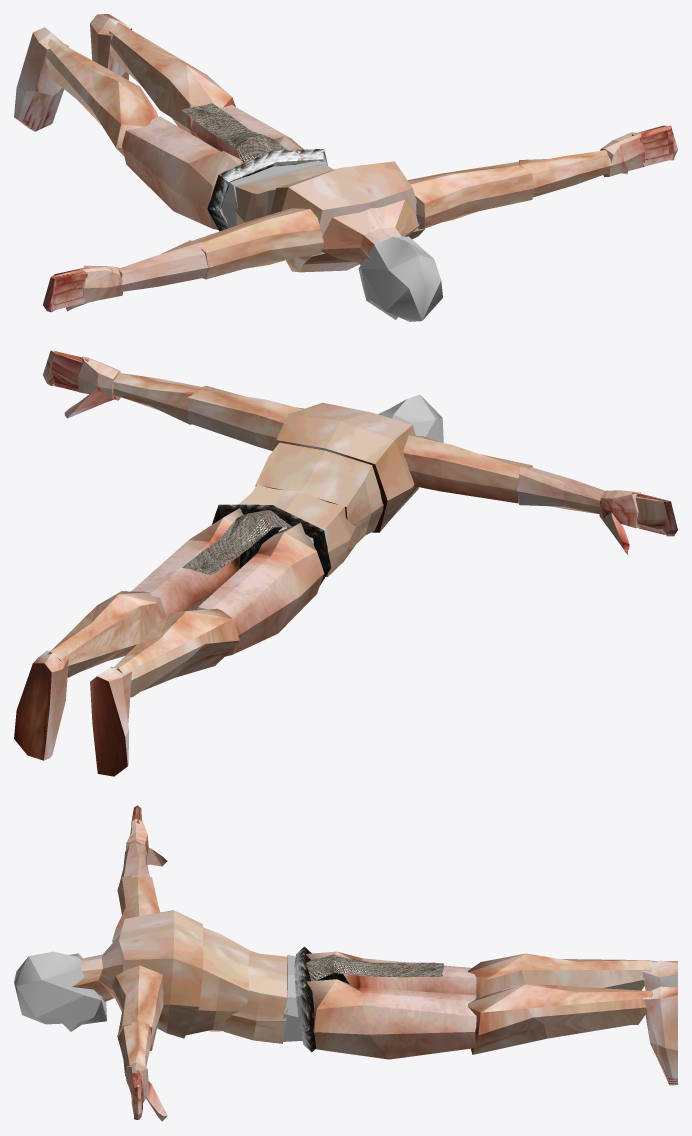
File: LowPolyPass.fbx
3 views of the same model, one above another, from view 1: azimuth 30°, elevation 25°; view 2: azimuth 150°, elevation 25°; view 3: azimuth 270°, elevation 25° (orthographic). The views are drawn at different scales.
Parts seen in each view (by area): view 1: RUpLeg, Spine2, LLeg, RArm, RLeg, LArm, Head, Neck, RFoot, RArm.001, LForeArm, Plane (+9 smaller); view 2: RUpLeg, Spine2, Spine1, RLeg, RArm, LLeg, LUpLeg, LArm, LFoot, RFoot, Spine, RArm.001 (+8 smaller); view 3: LUpLeg, LLeg, Spine2, RLeg, Head, Spine1, Spine, LArm, RUpLeg, LFoot, Plane, Neck (+7 smaller).
Part boxes in pixels (<box>): RUpLeg: <box>122,116,241,229</box>; Spine2: <box>270,161,424,272</box>; LLeg: <box>109,22,235,134</box>; RArm: <box>193,208,323,279</box>; RLeg: <box>46,39,158,155</box>; LArm: <box>407,161,534,229</box>; Head: <box>358,236,442,321</box>; Neck: <box>321,200,419,264</box>; RFoot: <box>14,27,68,131</box>; RArm.001: <box>119,240,212,291</box>; LForeArm: <box>519,150,613,197</box>; Plane: <box>181,103,287,163</box>; RUpLeg: <box>197,522,324,656</box>; Spine2: <box>273,402,418,532</box>; Spine1: <box>255,442,383,550</box>; RLeg: <box>113,608,239,697</box>; RArm: <box>403,435,532,503</box>; LLeg: <box>48,591,163,677</box>; LUpLeg: <box>131,508,243,617</box>; LArm: <box>188,385,303,450</box>; LFoot: <box>14,651,68,760</box>; RFoot: <box>90,667,131,776</box>; Spine: <box>238,484,356,576</box>; RArm.001: <box>516,466,604,514</box>; LUpLeg: <box>306,979,476,1059</box>; LLeg: <box>468,983,652,1054</box>; Spine2: <box>119,910,202,1038</box>; RLeg: <box>468,953,652,998</box>; Head: <box>14,951,106,1031</box>; Spine1: <box>186,927,248,1035</box>; Spine: <box>224,950,287,1043</box>; LArm: <box>112,965,163,1050</box>; RUpLeg: <box>306,951,477,998</box>; LFoot: <box>643,986,677,1085</box>; Plane: <box>306,954,444,980</box>; Neck: <box>72,934,122,1001</box>.
Size of the model in its own units: 712 by 159 by 692.
